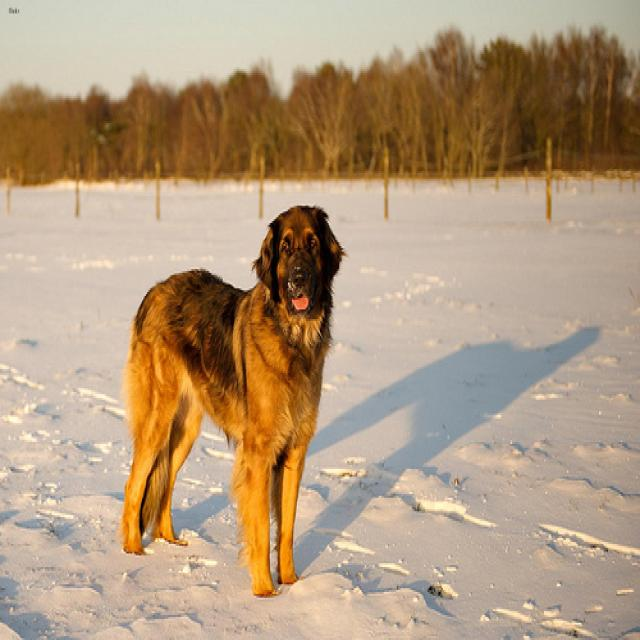dog-leonberger: (113, 196, 353, 605)
